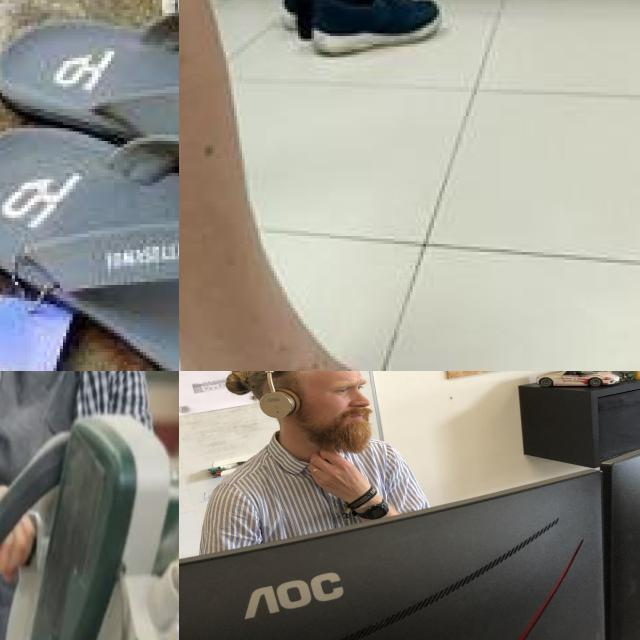Ear-protection: (249, 371, 381, 461)
No_Glasses: (315, 371, 368, 406)
Sandals: (0, 0, 179, 371)
person: (0, 371, 170, 640)
